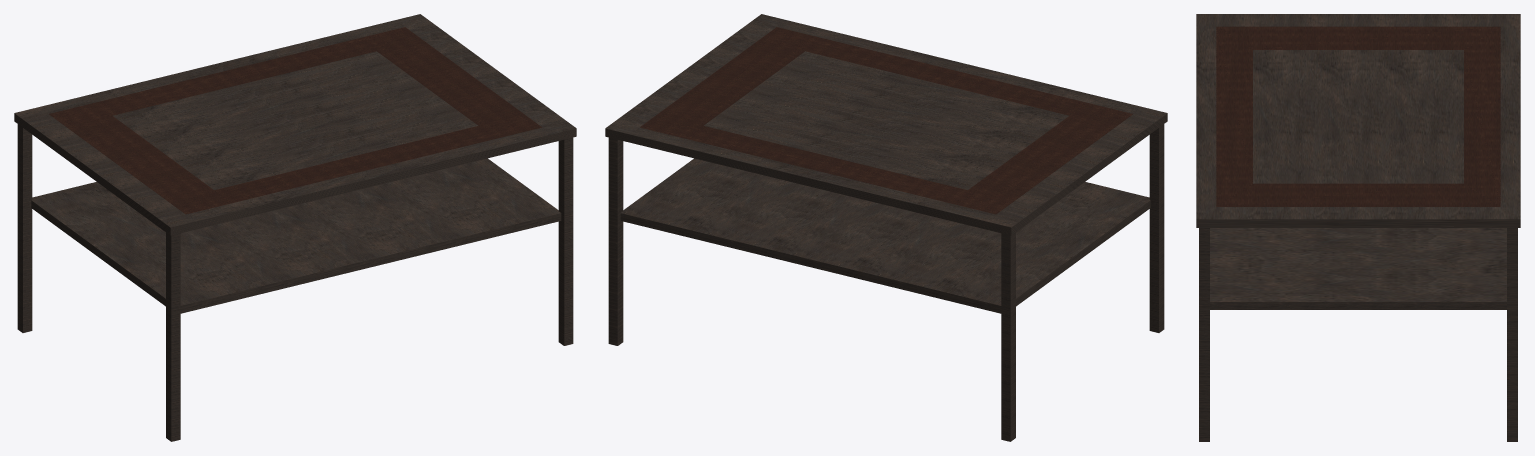
The model's file is DiningTable.fbx.
3 renders of one model, left to right at view 1: azimuth 30°, elevation 25°; view 2: azimuth 150°, elevation 25°; view 3: azimuth 270°, elevation 25°, orthographic. The views are drawn at different scales.
Visible parts, largest first — view 1: Cube; view 2: Cube; view 3: Cube.
Part boxes in pixels (x1,y1,x2,y2): Cube: (14,14,576,441); Cube: (605,14,1167,441); Cube: (1196,14,1520,441).
Size of the model in its own units: 600 by 305 by 400.
2 materials, 2 textured.
